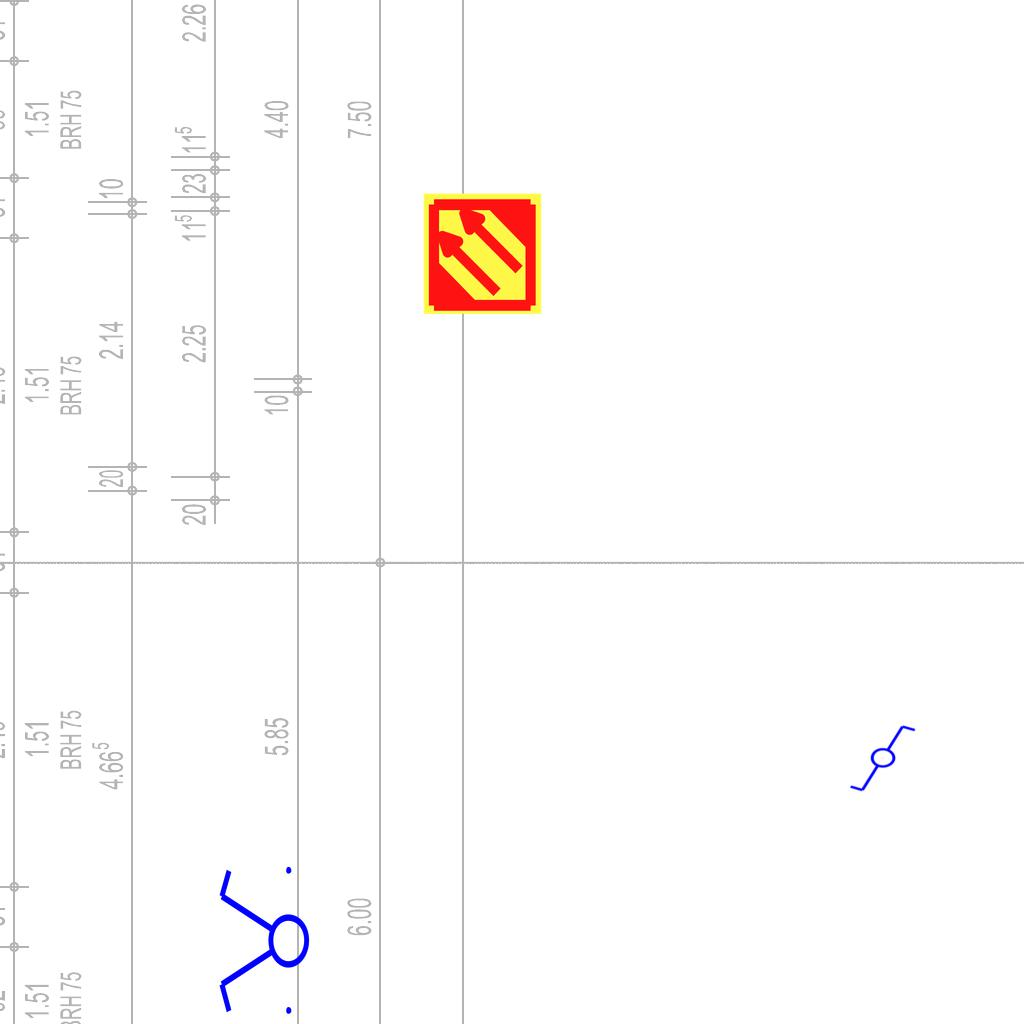ASR_Ansaugrauchmelder: (420, 191, 545, 316)
Serienschalter: (215, 858, 311, 1024)
Wechselschalter: (848, 723, 926, 795)
